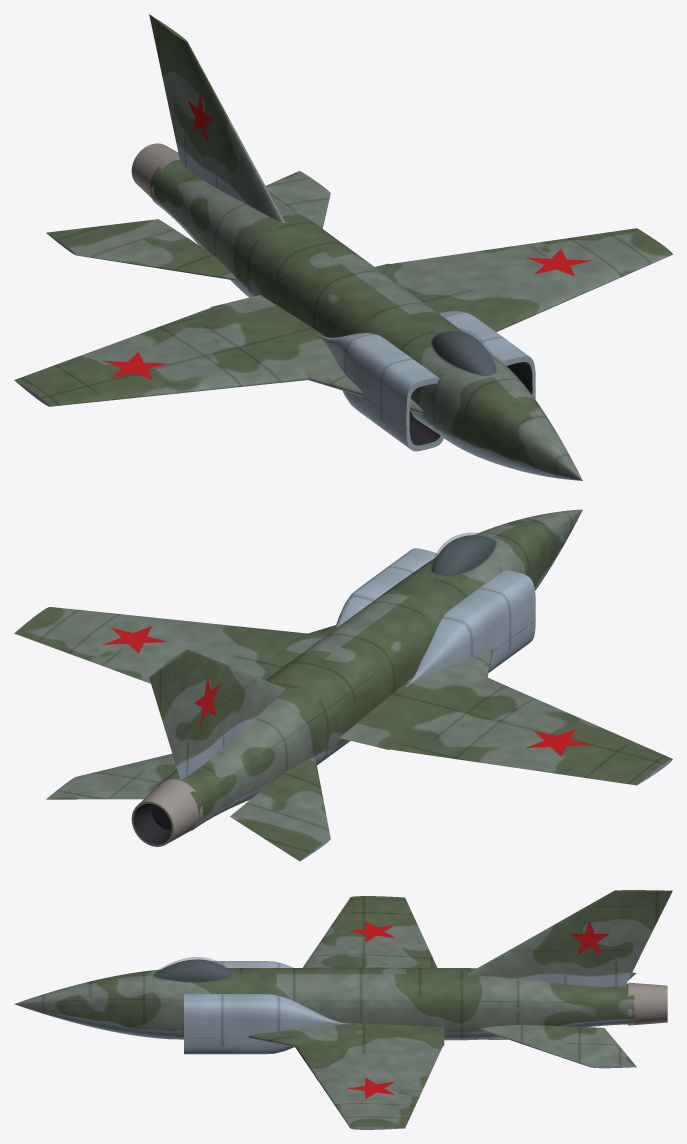
The model's file is 13_MiG23ML.glb.
3 views of the same model, one above another, from view 1: azimuth 30°, elevation 25°; view 2: azimuth 150°, elevation 25°; view 3: azimuth 270°, elevation 25° (orthographic). The views are drawn at different scales.
Parts seen in each view (by area): view 1: Fuselage, SwingWing1_R, SwingWing1_L, Fin3, Intake_R, Htail2_R, Glove0_R, Intake_L, Canopy, Htail2_L, Cockpit, Nozzle (+1 smaller); view 2: Fuselage, SwingWing1_R, SwingWing1_L, Fin3, Intake_R, Htail2_R, Glove0_R, Htail2_L, Nozzle, Intake_L, Canopy, Cockpit (+1 smaller); view 3: Fuselage, Fin3, SwingWing1_L, Intake_L, SwingWing1_R, Htail2_L, Glove0_L, Canopy, Nozzle, Cockpit, Decal_Fin_b, Intake_R.
Boxes of the visible parts, <box> form: Fuselage: <box>150,159,582,480</box>; SwingWing1_R: <box>14,307,308,406</box>; SwingWing1_L: <box>390,228,672,331</box>; Fin3: <box>149,14,284,222</box>; Intake_R: <box>316,333,443,451</box>; Htail2_R: <box>46,219,237,280</box>; Glove0_R: <box>211,295,424,414</box>; Intake_L: <box>438,311,535,399</box>; Canopy: <box>431,328,497,376</box>; Htail2_L: <box>265,171,330,228</box>; Cockpit: <box>432,331,496,375</box>; Nozzle: <box>131,143,179,197</box>; Fuselage: <box>152,509,582,831</box>; SwingWing1_R: <box>390,677,672,785</box>; SwingWing1_L: <box>14,607,306,683</box>; Fin3: <box>149,649,284,780</box>; Intake_R: <box>405,570,535,687</box>; Htail2_R: <box>230,757,330,861</box>; Glove0_R: <box>340,648,493,749</box>; Htail2_L: <box>46,753,176,799</box>; Nozzle: <box>131,779,202,846</box>; Intake_L: <box>335,548,438,628</box>; Canopy: <box>431,533,497,576</box>; Cockpit: <box>432,535,496,575</box>; Fuselage: <box>14,968,634,1040</box>; Fin3: <box>467,890,672,986</box>; SwingWing1_L: <box>294,1042,442,1129</box>; Intake_L: <box>184,994,351,1054</box>; SwingWing1_R: <box>303,896,437,967</box>; Htail2_L: <box>479,1025,636,1068</box>; Glove0_L: <box>248,1022,444,1046</box>; Canopy: <box>152,957,232,982</box>; Nozzle: <box>628,982,667,1025</box>; Cockpit: <box>154,959,231,982</box>; Decal_Fin_b: <box>570,921,608,954</box>; Intake_R: <box>211,961,293,967</box>.
Bounding box in the file's own units: 13.97 × 4.2 × 16.85.
6 materials, 2 textured.
